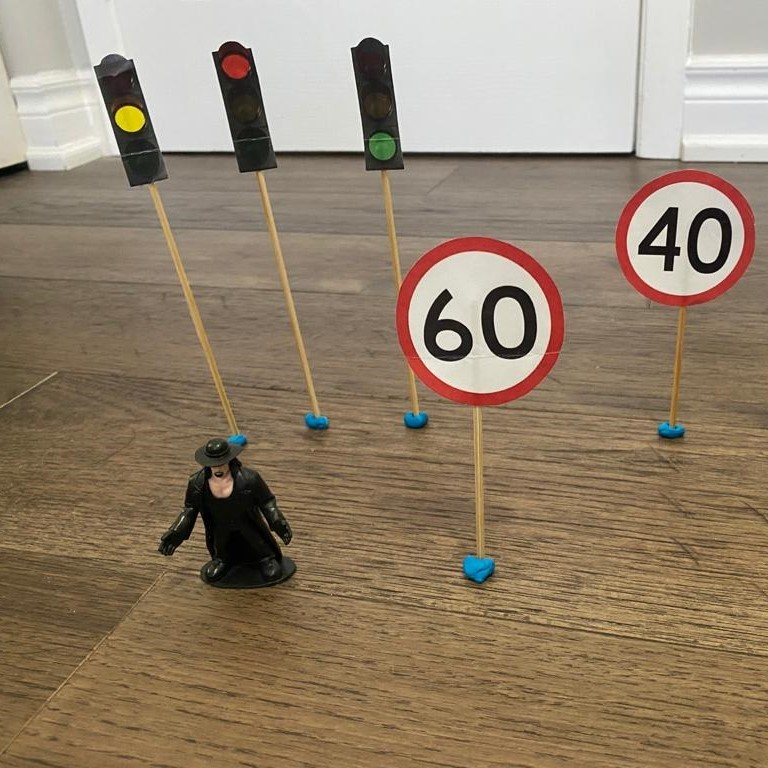Green Traffic Light: (348, 35, 409, 173)
Person: (150, 437, 305, 592)
Red Traffic Light: (209, 39, 281, 176)
Speed Limit 40: (613, 167, 755, 313)
Speed Limit 60: (396, 231, 565, 409)
Yellow Traffic Light: (88, 53, 173, 186)
